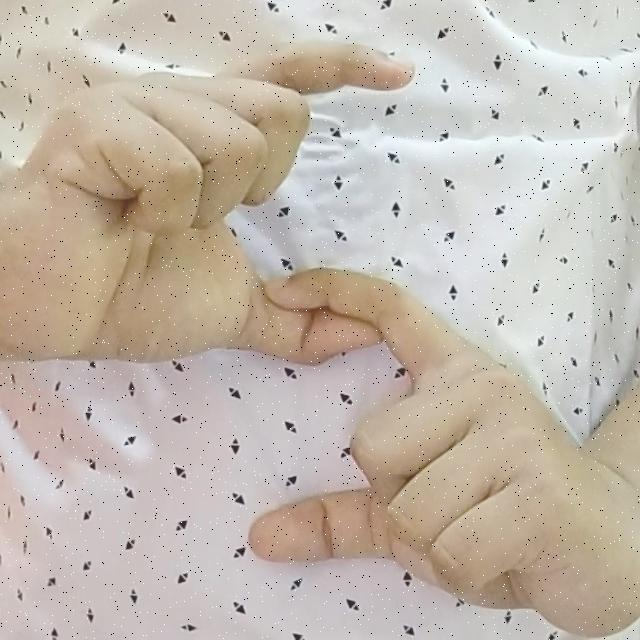S: (21, 23, 557, 618)
